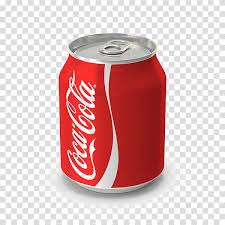coke: (60, 73, 111, 183)
